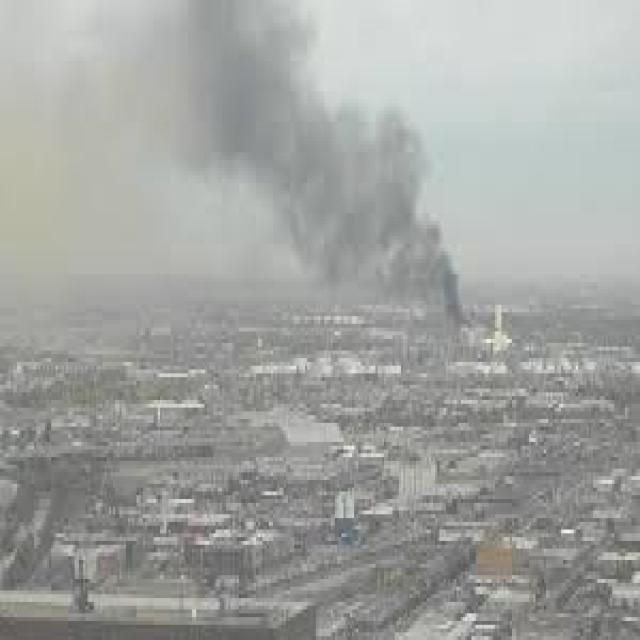Smoke: (91, 0, 472, 347)
